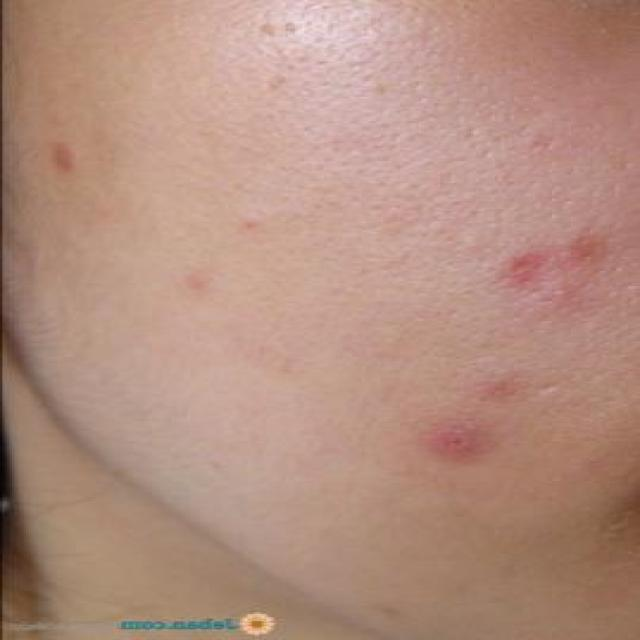Acne: (395, 409, 504, 480), (438, 352, 550, 412), (464, 237, 566, 295), (29, 116, 107, 190), (512, 268, 592, 322)
